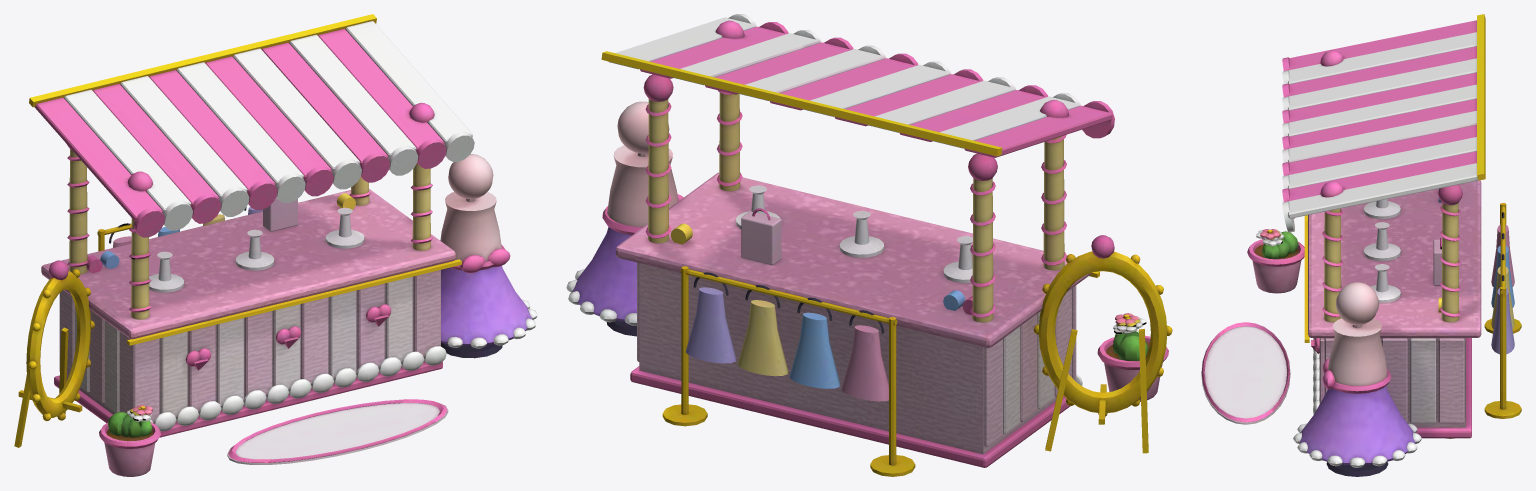
File: boutique.glb
3 views of the same model, side by side, from view 1: azimuth 30°, elevation 25°; view 2: azimuth 150°, elevation 25°; view 3: azimuth 270°, elevation 25° (orthographic). The views are drawn at different scales.
Parts seen in each view (by area): view 1: box; view 2: box; view 3: box.
Boxes of the visible parts, left/top/right/bottom form: box: left=14, top=14, right=537, bottom=476; box: left=566, top=14, right=1172, bottom=476; box: left=1201, top=14, right=1521, bottom=476.
Bounding box in the file's own units: 9.04 × 4.91 × 5.17.
1 material, 1 textured.
